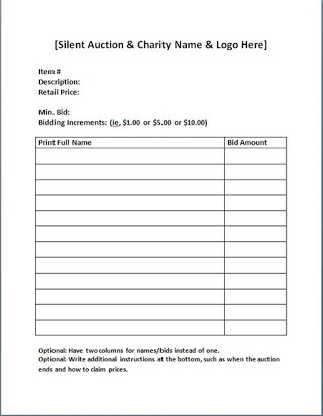textbox: (34, 144, 227, 168), (32, 192, 227, 214), (32, 254, 227, 276), (33, 286, 227, 308), (33, 239, 226, 261), (32, 223, 227, 244), (32, 271, 227, 292), (33, 161, 227, 182), (33, 208, 227, 229), (33, 302, 227, 323), (34, 317, 227, 338), (33, 177, 227, 197), (221, 238, 290, 261), (222, 301, 291, 324), (222, 144, 290, 167), (222, 254, 289, 277), (221, 270, 290, 292), (221, 316, 290, 338), (222, 176, 290, 198), (222, 223, 290, 245), (222, 192, 289, 214), (221, 208, 290, 229), (221, 287, 290, 308), (222, 162, 290, 182)
